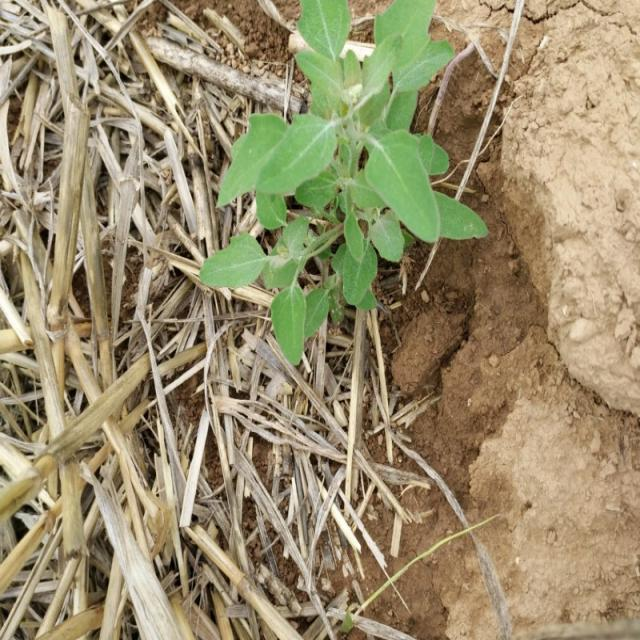ca: (216, 0, 453, 336)
